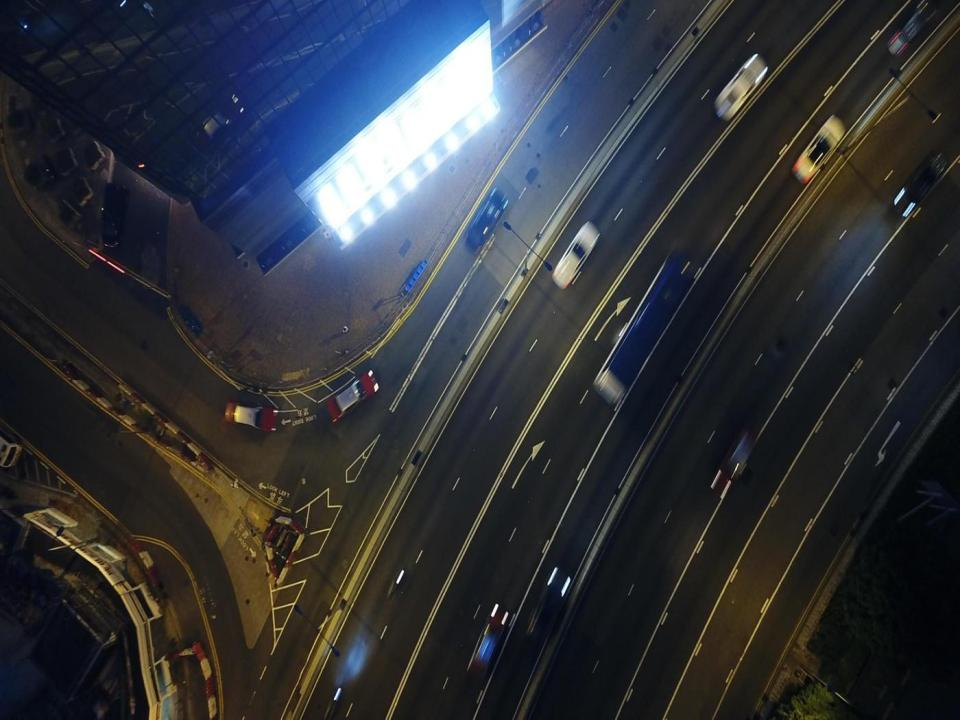bus: (593, 250, 702, 410)
car: (792, 113, 845, 184), (709, 425, 758, 500), (713, 54, 767, 121), (895, 151, 946, 218), (552, 221, 600, 290), (466, 604, 508, 681), (528, 566, 570, 643), (887, 0, 942, 58), (464, 188, 508, 252), (328, 369, 378, 422), (225, 401, 278, 433)
van: (101, 181, 127, 247)
